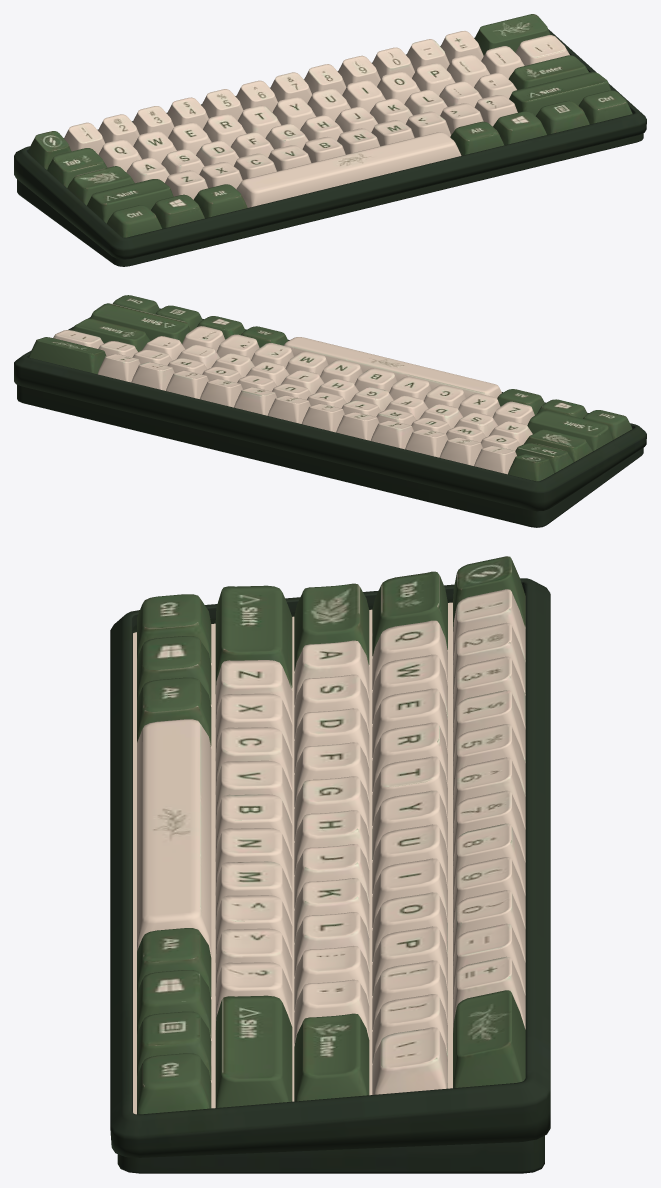
Rendered from northpaw-pip-60.glb.
The picture shows the model from 3 angles, top to bottom: view 1: azimuth 30°, elevation 25°; view 2: azimuth 150°, elevation 25°; view 3: azimuth 270°, elevation 25°; orthographic projection. The views are drawn at different scales.
Parts seen in each view (by area): view 1: defaultMaterial (×2); view 2: defaultMaterial (×2); view 3: defaultMaterial (×2).
Boxes of the visible parts, x1,y1,x2,y2 form: defaultMaterial (×2): (14,14,646,266); defaultMaterial (×2): (14,295,646,527); defaultMaterial (×2): (110,556,550,1173).
Size of the model in its own units: 958 by 99.61 by 343.
2 materials, 2 textured.
